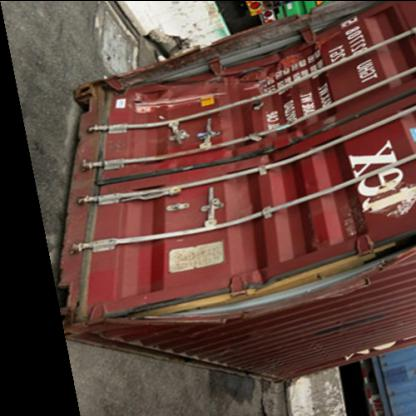Damage: (130, 245, 392, 322)
